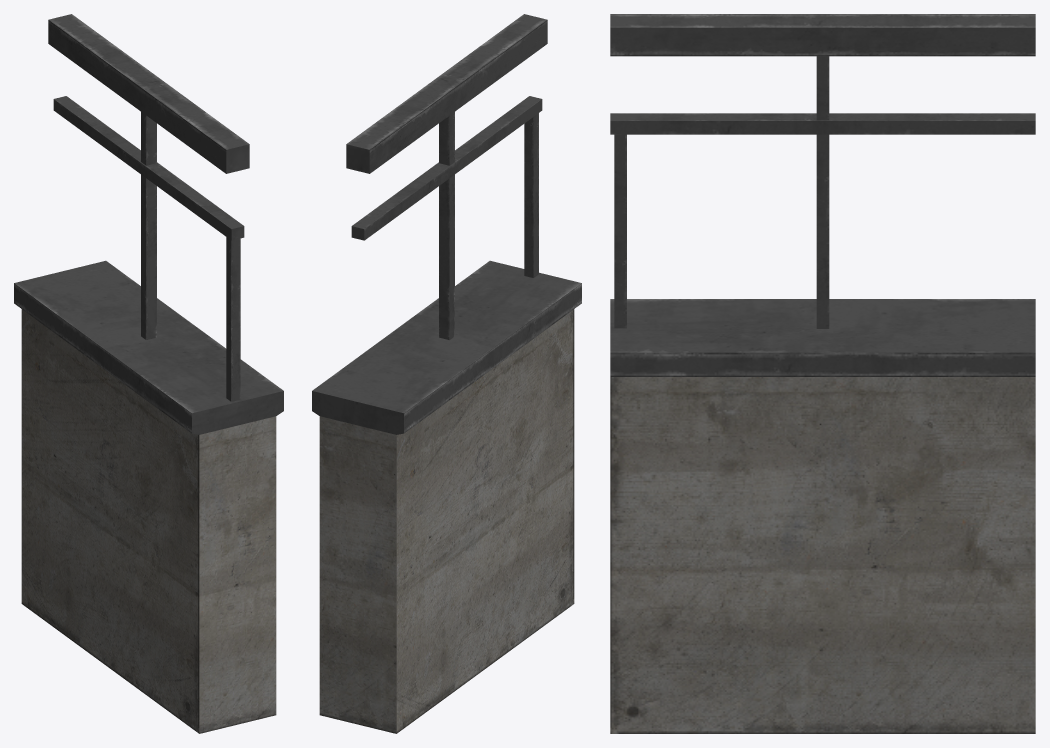
The model's file is CP_Parapet_D_1m.fbx.
3 views of the same model, side by side, from view 1: azimuth 30°, elevation 25°; view 2: azimuth 150°, elevation 25°; view 3: azimuth 270°, elevation 25° (orthographic). The views are drawn at different scales.
Parts seen in each view (by area): view 1: CP_Parapet_D_1m; view 2: CP_Parapet_D_1m; view 3: CP_Parapet_D_1m.
Boxes of the visible parts, x1,y1,x2,y2 form: CP_Parapet_D_1m: (14,14,283,733); CP_Parapet_D_1m: (312,14,581,733); CP_Parapet_D_1m: (610,14,1035,733).
Size of the model in its own units: 29.88 by 179 by 100.
